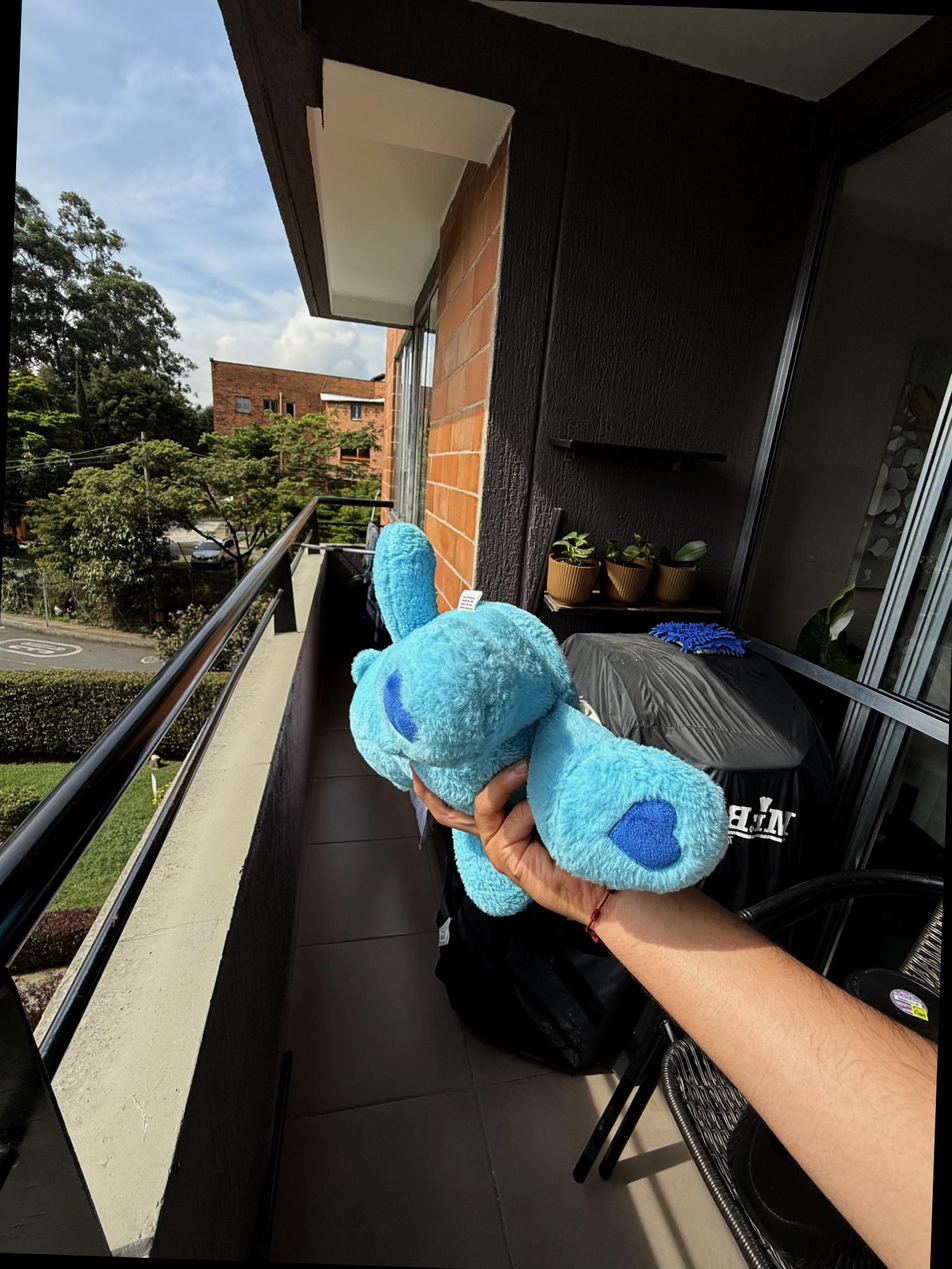peluche_Juan Jose: (258, 520, 740, 928)
